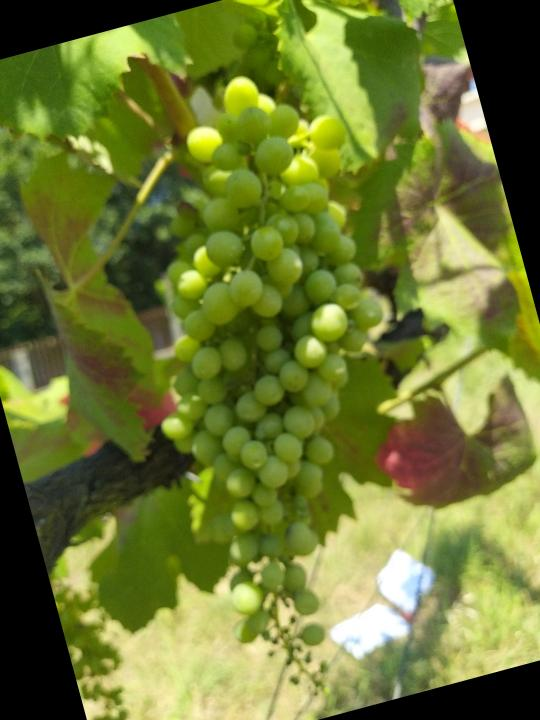grape: (73, 51, 488, 720)
